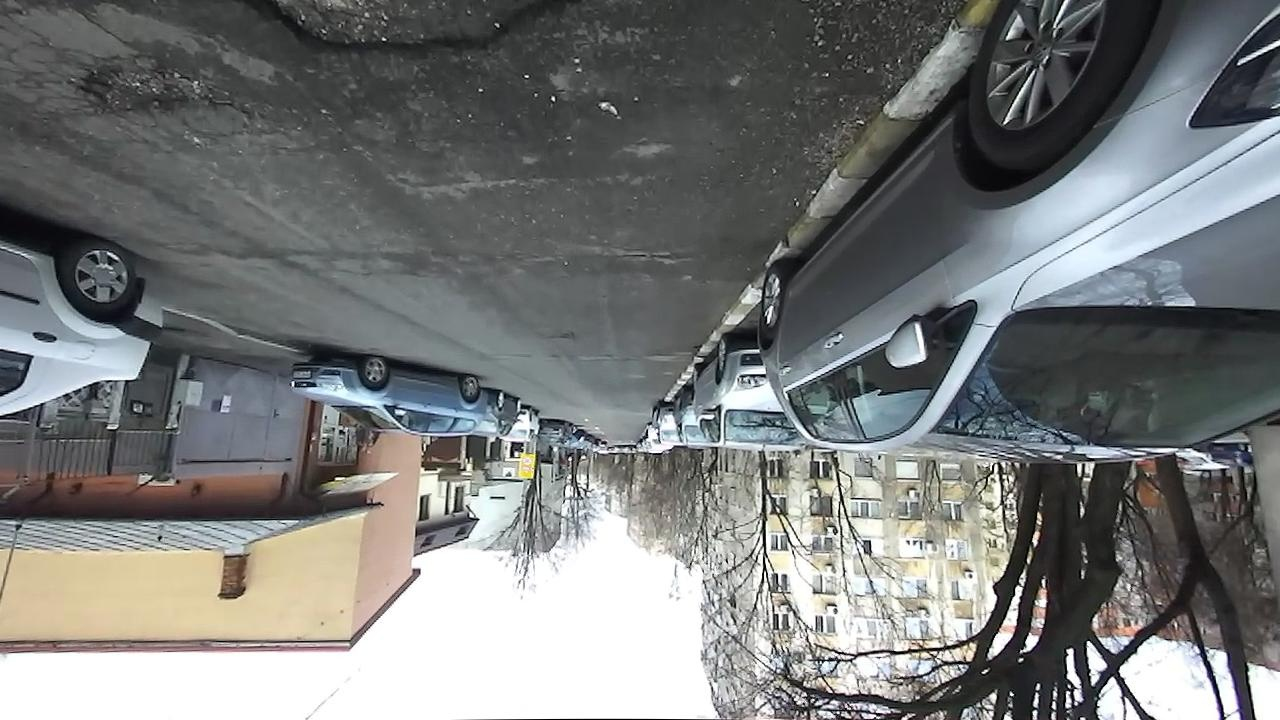pothole: (216, 0, 581, 64), (64, 53, 249, 124), (602, 245, 688, 269)
